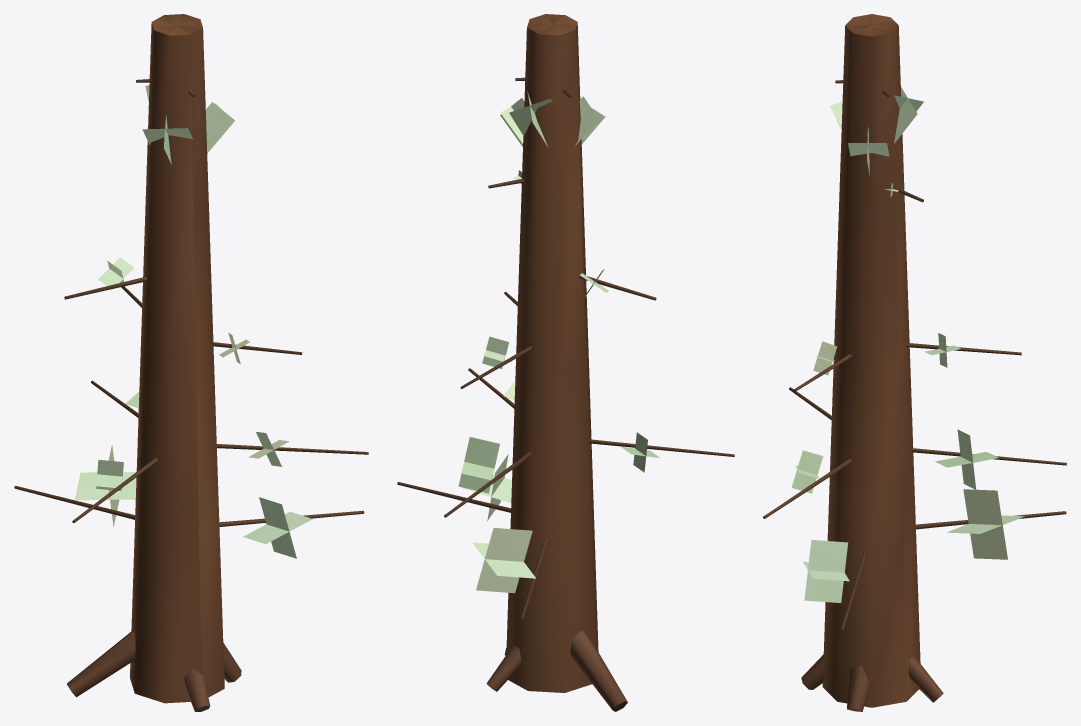
The model's file is small-lod2.glb.
The picture shows the model from 3 angles, left to right: view 1: azimuth 30°, elevation 25°; view 2: azimuth 150°, elevation 25°; view 3: azimuth 270°, elevation 25°; orthographic projection. The views are drawn at different scales.
Parts seen in each view (by area): view 1: pine-trunk-branches-buried-roots-ground-blend, pine-terminal-needle-sprigs; view 2: pine-trunk-branches-buried-roots-ground-blend, pine-terminal-needle-sprigs; view 3: pine-trunk-branches-buried-roots-ground-blend, pine-terminal-needle-sprigs.
Part boxes in pixels (x1,y1,x2,y2): pine-trunk-branches-buried-roots-ground-blend: (14,14,368,711); pine-terminal-needle-sprigs: (75,85,312,558); pine-trunk-branches-buried-roots-ground-blend: (397,14,734,711); pine-terminal-needle-sprigs: (458,92,660,593); pine-trunk-branches-buried-roots-ground-blend: (763,14,1066,711); pine-terminal-needle-sprigs: (791,87,1024,602).
Size of the model in its own units: 6.51 by 13.05 by 5.38.
